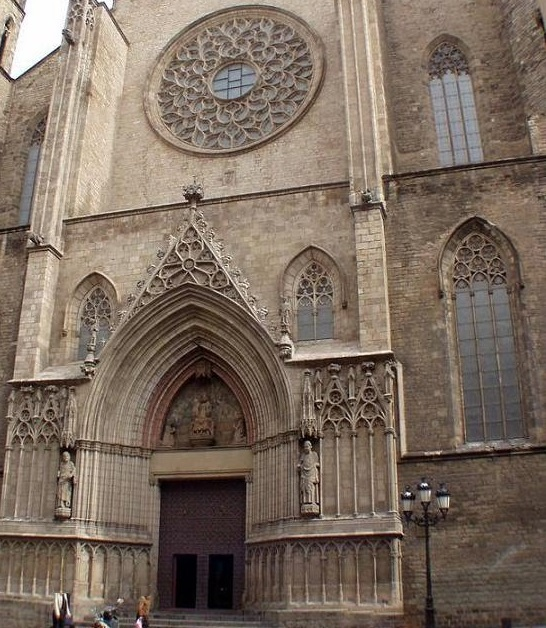arco-apuntado: (79, 279, 294, 437), (439, 212, 522, 276), (278, 241, 344, 296), (65, 269, 120, 308)
